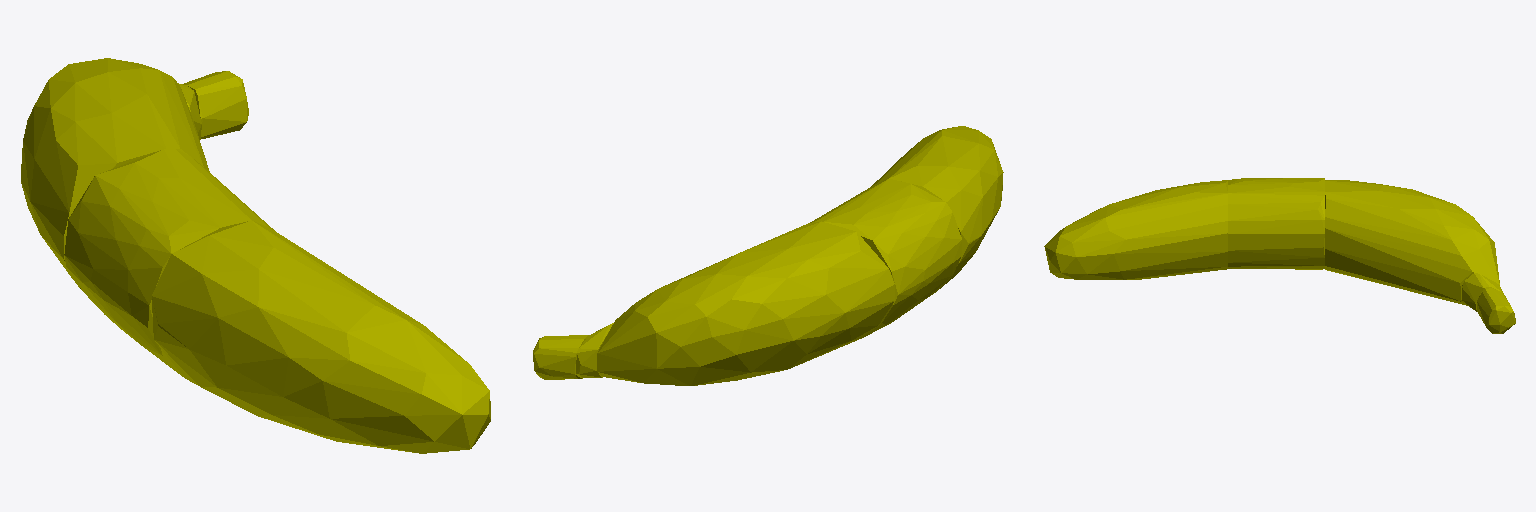
URDF robot description (banana):
<?xml version="1.0"?>
<robot name="banana">
  <link name="banana">
    <visual>
      <origin xyz="0.0 0.0 0.0"/>
      <geometry>
        <mesh filename="textured_decomp.obj" scale="1 1 1"/>
      </geometry>
      <material name="banana">
        <color rgba="0.7 0.7 0.0 1.0"/>
      </material>
    </visual>
    <collision>
      <origin xyz="0.0 0.0 0.0"/>
      <geometry>
        <mesh filename="textured_decomp.obj" scale="1 1 1"/>
      </geometry>
    </collision>
    <inertial>
      <mass value="0.068"/>
      <inertia ixx="0.0001" ixy="0.0" ixz="0.0" iyy="0.0001" iyz="0.0" izz="0.0001"/>
    </inertial>
  </link>
</robot>

--- Render facts (derived) ---
Views: 3 orthographic renders of the robot side by side, from view 1: azimuth 30°, elevation 25°; view 2: azimuth 150°, elevation 25°; view 3: azimuth 270°, elevation 25°.
Robot: banana — 1 links, 0 joints (none); root link banana; default pose: all joints at 0.
Visible links, largest first — view 1: banana; view 2: banana; view 3: banana.
Link boxes in pixels (x1,y1,x2,y2): banana: (21,58,490,453); banana: (533,126,1003,385); banana: (1044,178,1515,333).
Size in the robot's own frame: 0.0881 by 0.1925 by 0.0373 metres.
Meshes: 1 distinct files referenced, 1 mesh visuals loaded (1 OBJ).